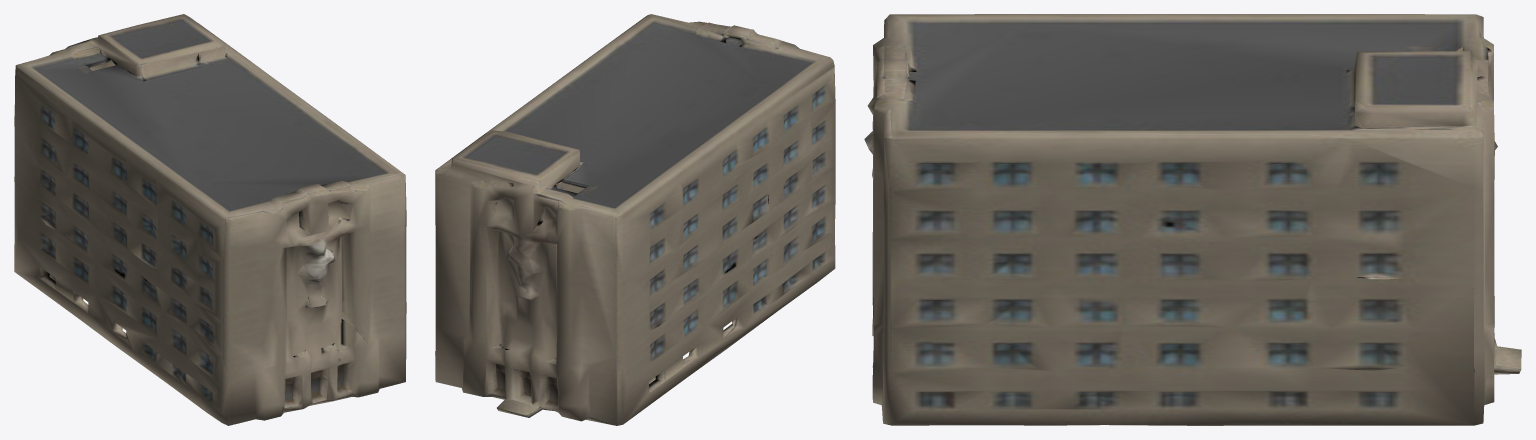
File: st_peters_in_the_loop.glb
3 views of the same model, side by side, from view 1: azimuth 30°, elevation 25°; view 2: azimuth 150°, elevation 25°; view 3: azimuth 270°, elevation 25° (orthographic). The views are drawn at different scales.
Visible parts, largest first — view 1: st_peters_in_the_loop; view 2: st_peters_in_the_loop; view 3: st_peters_in_the_loop.
Part boxes in pixels (<box>): st_peters_in_the_loop: <box>14,14,406,425</box>; st_peters_in_the_loop: <box>435,14,835,425</box>; st_peters_in_the_loop: <box>864,14,1521,425</box>.
Size of the model in its own units: 24 by 27 by 52.
Materials: 1 (1 with a texture image).
